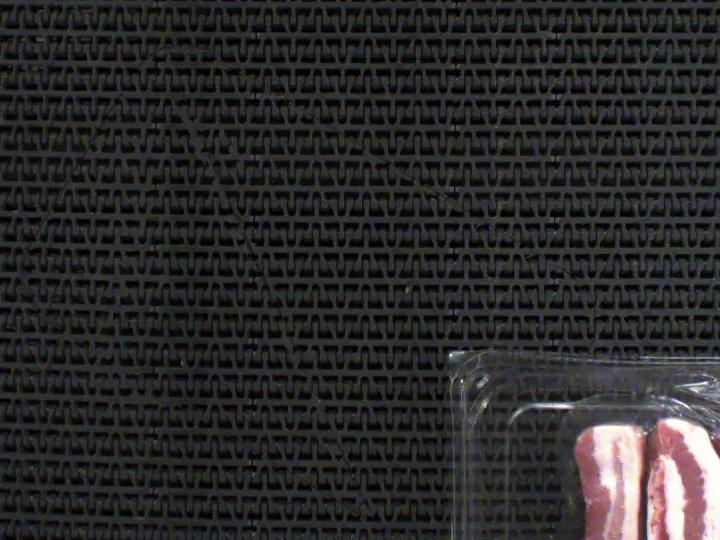unsealed: (548, 362, 720, 540)
